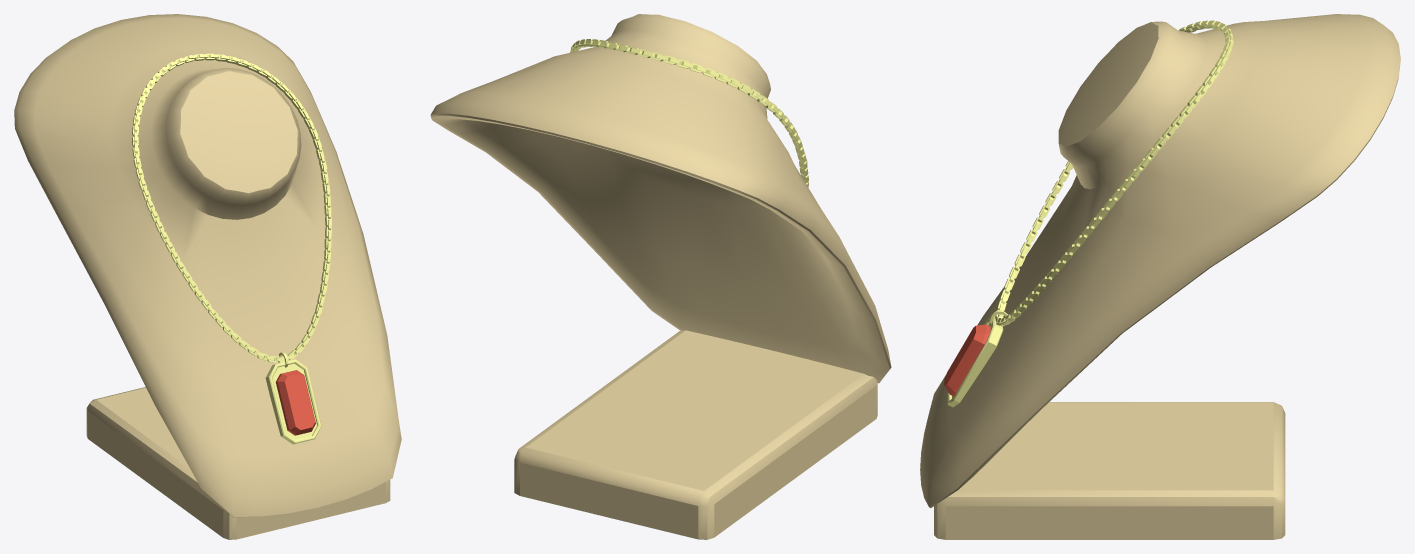
File: Necklace_2.fbx
3 renders of one model, left to right at view 1: azimuth 30°, elevation 25°; view 2: azimuth 150°, elevation 25°; view 3: azimuth 270°, elevation 25°, orthographic. The views are drawn at different scales.
Visible parts, largest first — view 1: SM_Stand_Necklace_4, SM_Necklace_5, SM_Cullon_12; view 2: SM_Stand_Necklace_4, SM_Necklace_5; view 3: SM_Stand_Necklace_4, SM_Necklace_5, SM_Cullon_12.
Boxes of the visible parts, x1,y1,x2,y2 form: SM_Stand_Necklace_4: (14,14,401,539); SM_Necklace_5: (132,53,331,362); SM_Cullon_12: (265,352,321,444); SM_Stand_Necklace_4: (430,14,891,539); SM_Necklace_5: (570,39,808,187); SM_Stand_Necklace_4: (920,14,1400,539); SM_Necklace_5: (995,20,1233,326); SM_Cullon_12: (944,310,1008,407).
Size of the model in its own units: 22.51 by 29.29 by 27.78.
